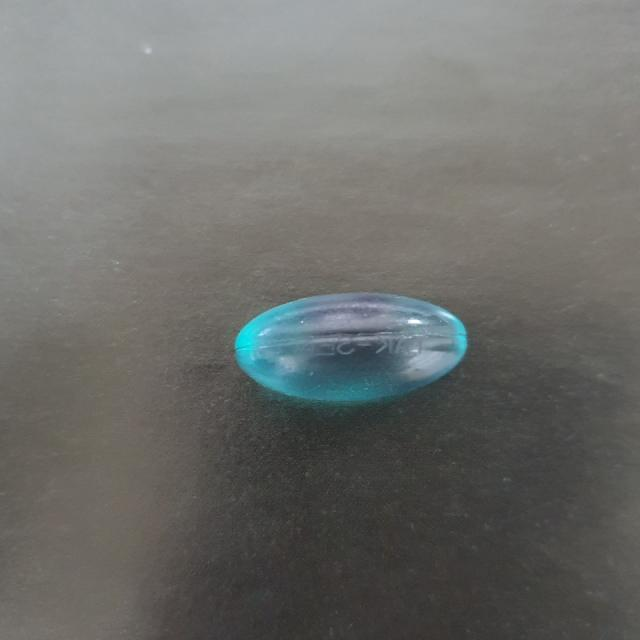pill: (208, 270, 494, 417)
